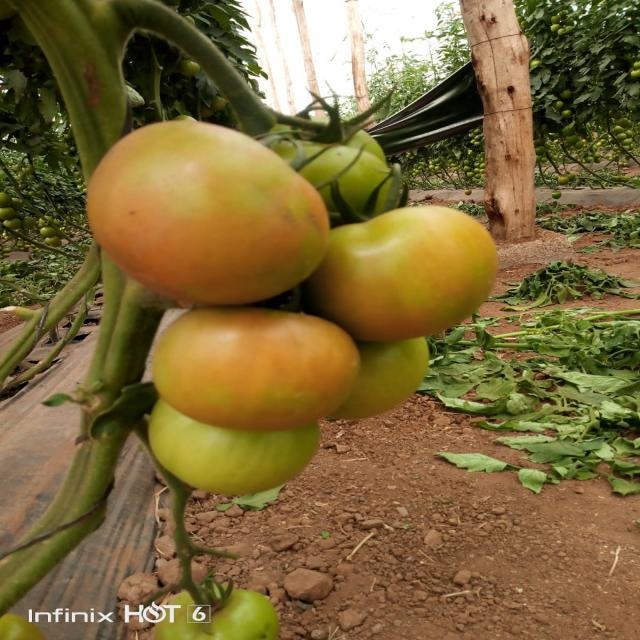Unripe Tomato: (98, 114, 336, 294), (136, 298, 374, 420), (328, 202, 501, 354), (115, 408, 342, 490), (266, 116, 402, 212), (323, 334, 456, 416)
